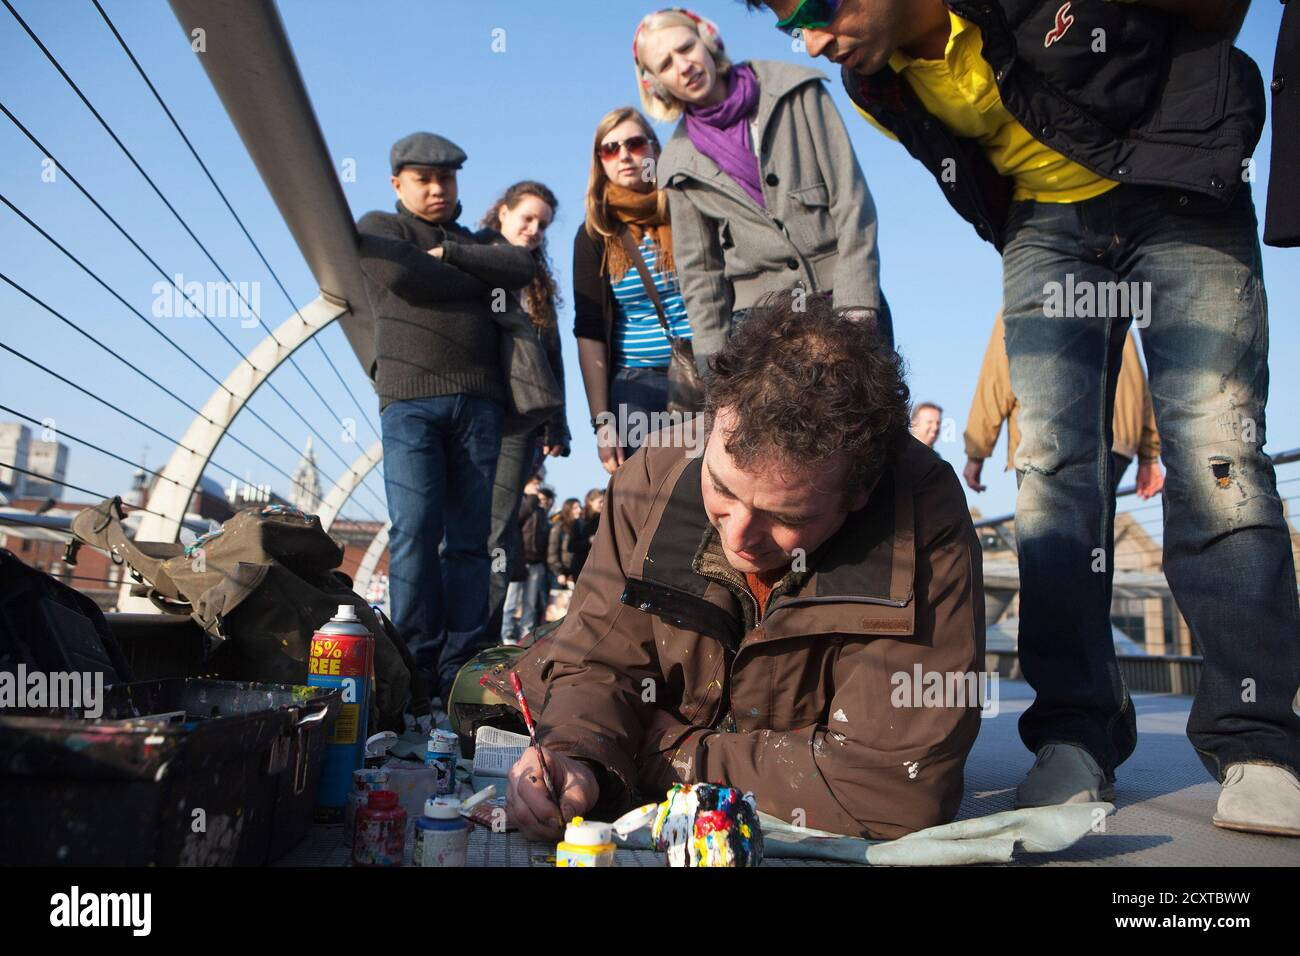person: (497, 304, 992, 854), (632, 7, 906, 423), (353, 132, 535, 688), (571, 110, 716, 486), (476, 175, 576, 633)
